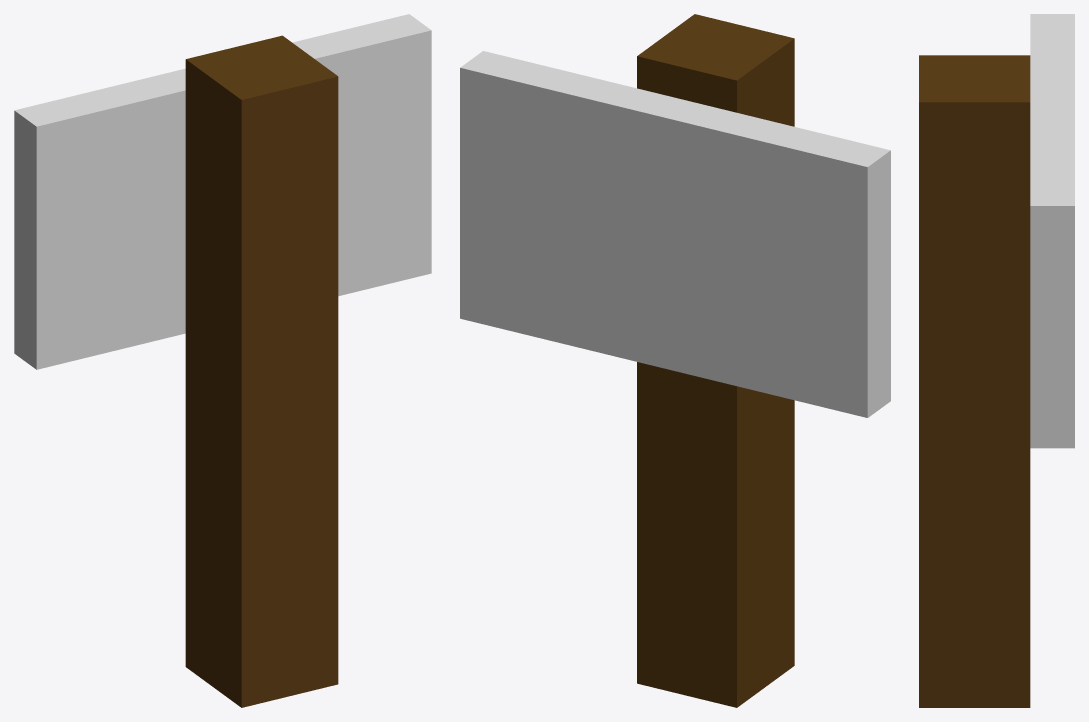
Rendered from Sign.fbx.
3 views of the same model, side by side, from view 1: azimuth 30°, elevation 25°; view 2: azimuth 150°, elevation 25°; view 3: azimuth 270°, elevation 25° (orthographic). The views are drawn at different scales.
Visible parts, largest first — view 1: Cube; view 2: Cube; view 3: Cube.
Boxes of the visible parts, x1,y1,x2,y2 form: Cube: (14, 14, 431, 707); Cube: (460, 14, 890, 707); Cube: (919, 14, 1074, 707).
Bounding box in the file's own units: 4.08 × 1.4 × 6.
